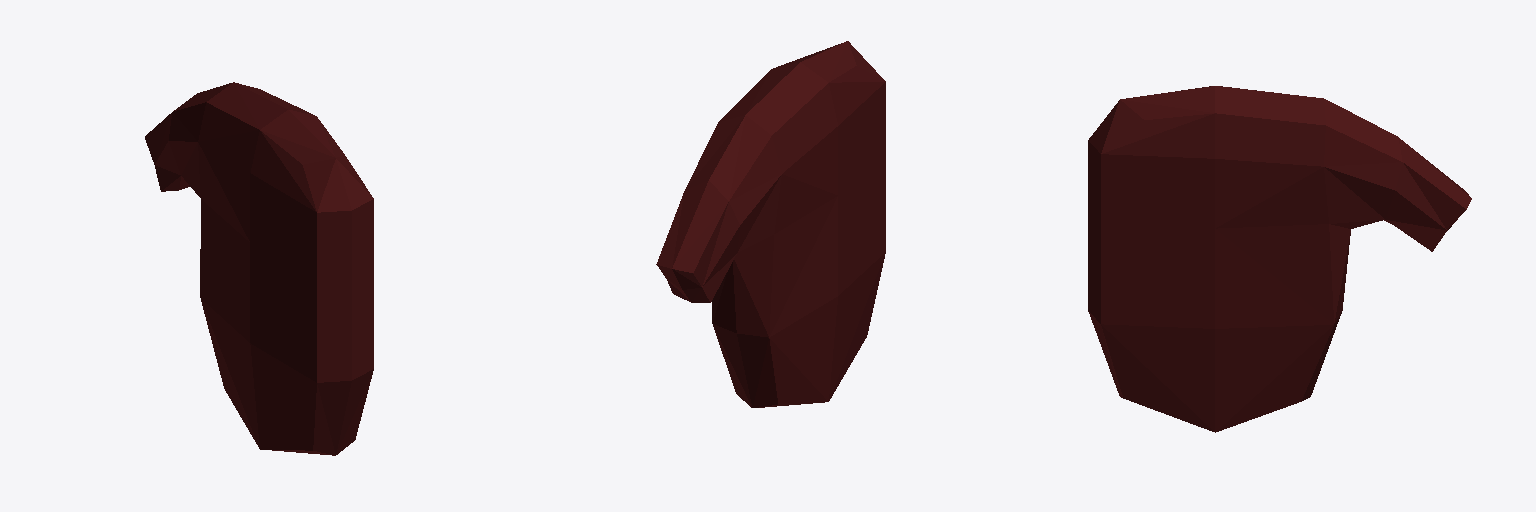
The model's file is RightHand.obj.
3 renders of one model, left to right at view 1: azimuth 30°, elevation 25°; view 2: azimuth 150°, elevation 25°; view 3: azimuth 270°, elevation 25°, orthographic.
Parts seen in each view (by area): view 1: Mesh.001_Mesh.005_Mesh.007_Mesh_polySurface632_polySurface664; view 2: Mesh.001_Mesh.005_Mesh.007_Mesh_polySurface632_polySurface664; view 3: Mesh.001_Mesh.005_Mesh.007_Mesh_polySurface632_polySurface664.
Part boxes in pixels (left/top/right/bottom): Mesh.001_Mesh.005_Mesh.007_Mesh_polySurface632_polySurface664: left=145, top=82, right=373, bottom=455; Mesh.001_Mesh.005_Mesh.007_Mesh_polySurface632_polySurface664: left=656, top=41, right=885, bottom=407; Mesh.001_Mesh.005_Mesh.007_Mesh_polySurface632_polySurface664: left=1088, top=86, right=1471, bottom=432.
Bounding box in the file's own units: 1.83 × 7.84 × 8.01.